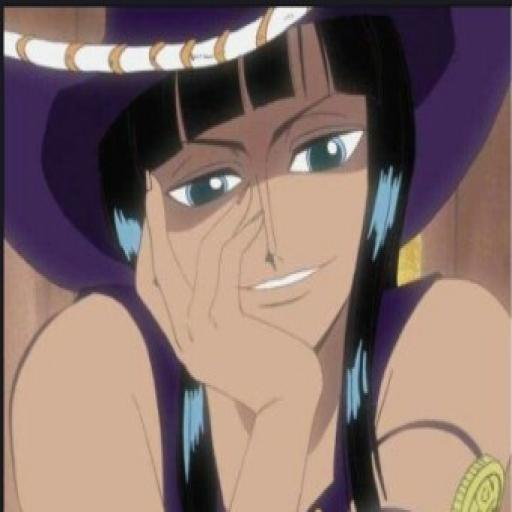NicoRobin: (65, 0, 419, 373)
